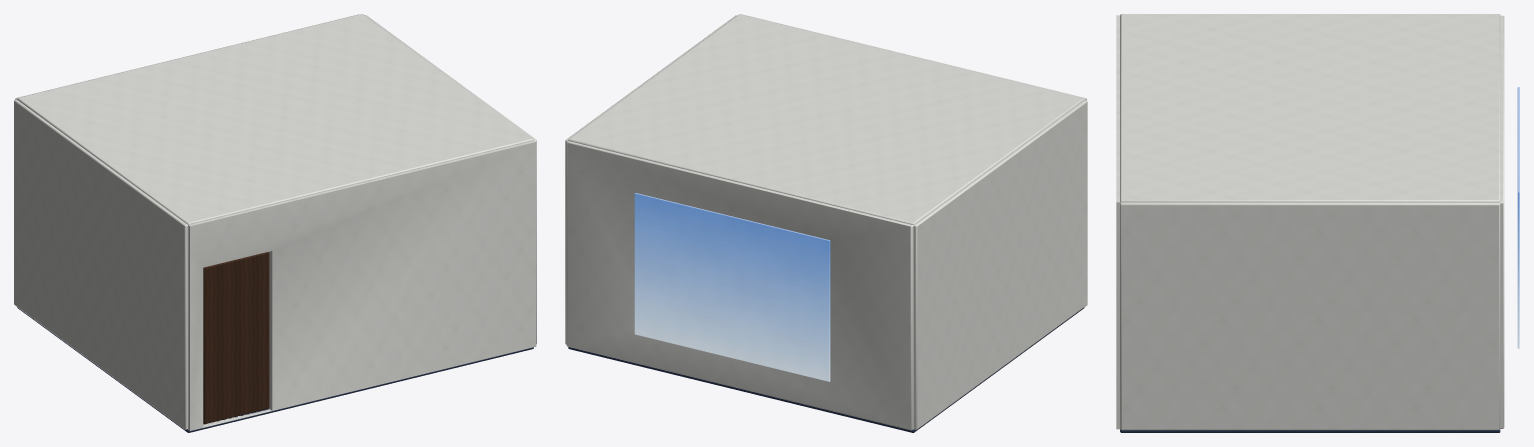
Rendered from unit-3-standard-triple.glb.
3 renders of one model, left to right at view 1: azimuth 30°, elevation 25°; view 2: azimuth 150°, elevation 25°; view 3: azimuth 270°, elevation 25°, orthographic. The views are drawn at different scales.
Parts seen in each view (by area): view 1: wall_entry, ceiling, wall_left, door_1_leaf, floor, wall_right; view 2: ceiling, wall_back_window, wall_left, trim_window_backdrop, floor, wall_right; view 3: wall_right, ceiling, wall_back_window, wall_entry, floor, trim_window_backdrop.
Part boxes in pixels (x1=…): wall_entry: x1=188, y1=140, x2=536, y2=430; ceiling: x1=17, y1=14, x2=533, y2=224; wall_left: x1=14, y1=100, x2=188, y2=429; door_1_leaf: x1=203, y1=252, x2=269, y2=424; floor: x1=17, y1=307, x2=533, y2=432; wall_right: x1=365, y1=15, x2=536, y2=343; ceiling: x1=568, y1=14, x2=1084, y2=224; wall_back_window: x1=566, y1=141, x2=913, y2=430; wall_left: x1=913, y1=100, x2=1087, y2=429; trim_window_backdrop: x1=634, y1=193, x2=830, y2=381; floor: x1=568, y1=307, x2=1084, y2=432; wall_right: x1=565, y1=15, x2=737, y2=344; wall_right: x1=1120, y1=202, x2=1500, y2=430; ceiling: x1=1120, y1=14, x2=1500, y2=202; wall_back_window: x1=1500, y1=15, x2=1504, y2=428; wall_entry: x1=1116, y1=15, x2=1120, y2=429; floor: x1=1120, y1=429, x2=1500, y2=432; trim_window_backdrop: x1=1517, y1=87, x2=1519, y2=348.
Size of the model in its own units: 4.68 by 2.67 by 4.19.
13 materials, 12 textured.
